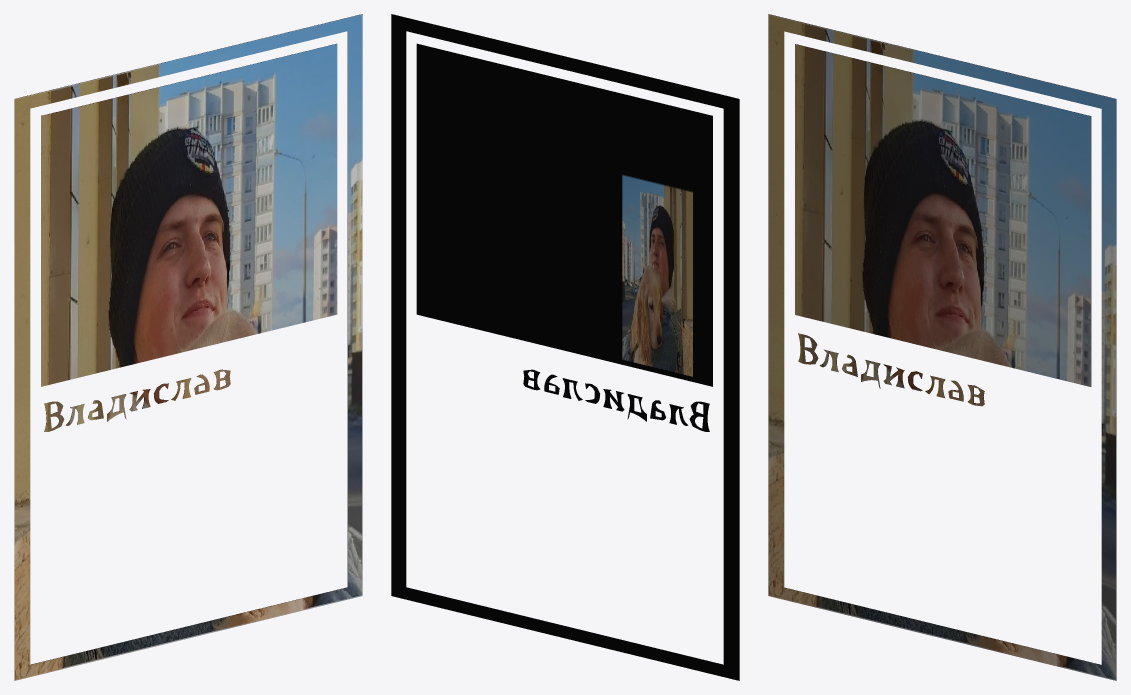
The model's file is mecard.gltf.
The picture shows the model from 3 angles, left to right: view 1: azimuth 30°, elevation 25°; view 2: azimuth 150°, elevation 25°; view 3: azimuth 330°, elevation 25°; orthographic projection.
Parts seen in each view (by area): view 1: Владислав; view 2: Владислав; view 3: Владислав.
Boxes of the visible parts, <box> form: Владислав: <box>14,14,362,680</box>; Владислав: <box>391,14,739,680</box>; Владислав: <box>768,14,1116,680</box>.
Bounding box in the file's own units: 0.1154 × 0.1841 × 0.000115.
3 materials, 3 textured.
